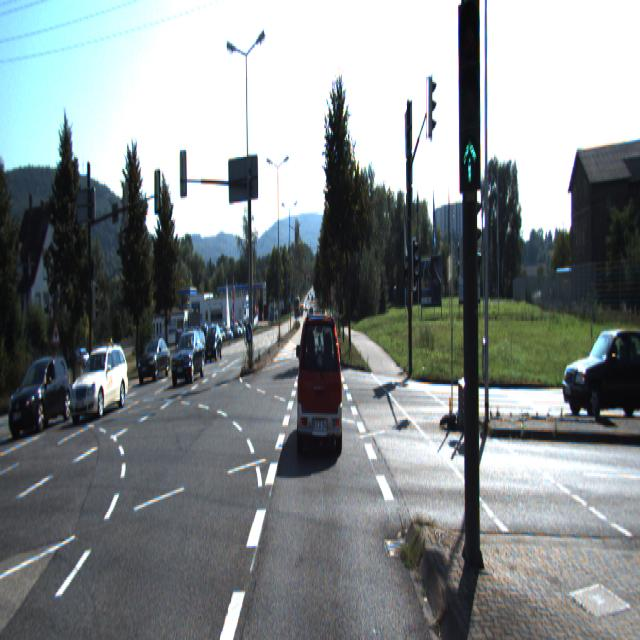Car: (560, 318, 640, 427), (296, 312, 342, 458), (9, 358, 72, 437), (69, 348, 128, 424), (171, 332, 205, 388), (138, 339, 168, 387), (202, 326, 222, 366)
DontCare: (203, 311, 248, 345)
